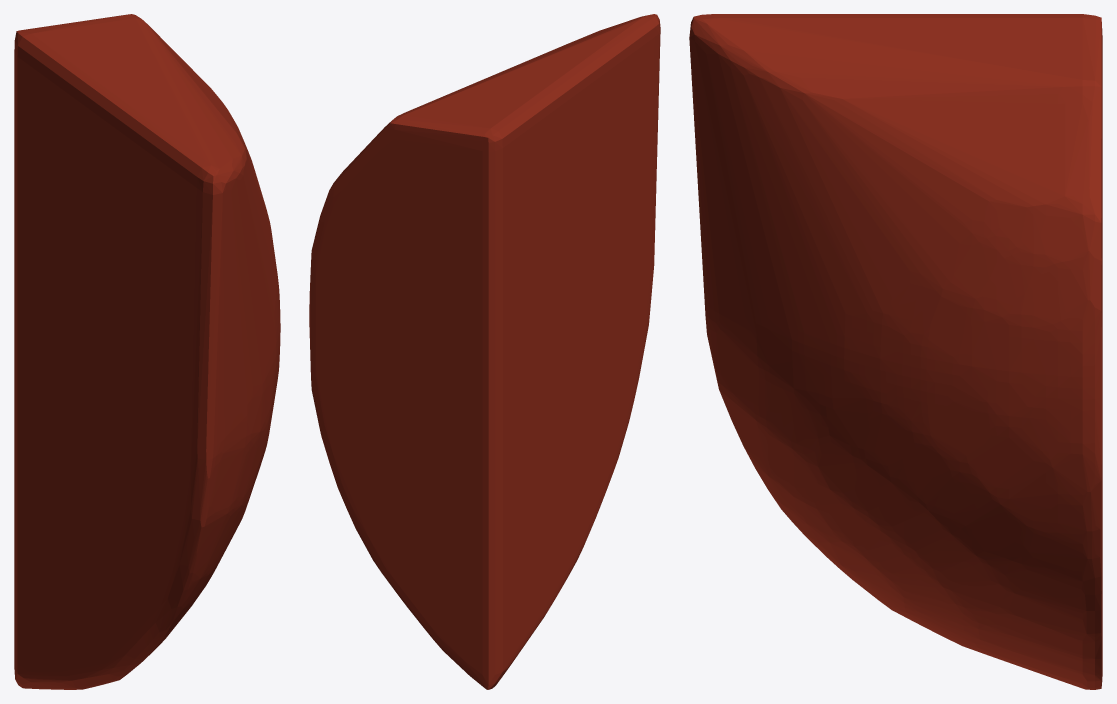
File: right_th_distal_pst_part_15.obj
The picture shows the model from 3 angles, left to right: view 1: azimuth 30°, elevation 25°; view 2: azimuth 150°, elevation 25°; view 3: azimuth 270°, elevation 25°; orthographic projection. The views are drawn at different scales.
Bounding box in the file's own units: 4.33 × 12.08 × 6.72.
